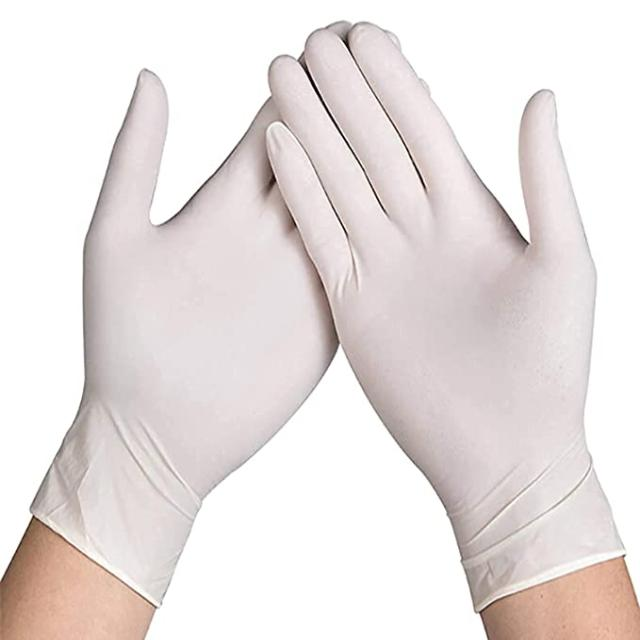Gloves: (261, 17, 617, 604), (40, 19, 392, 608)
